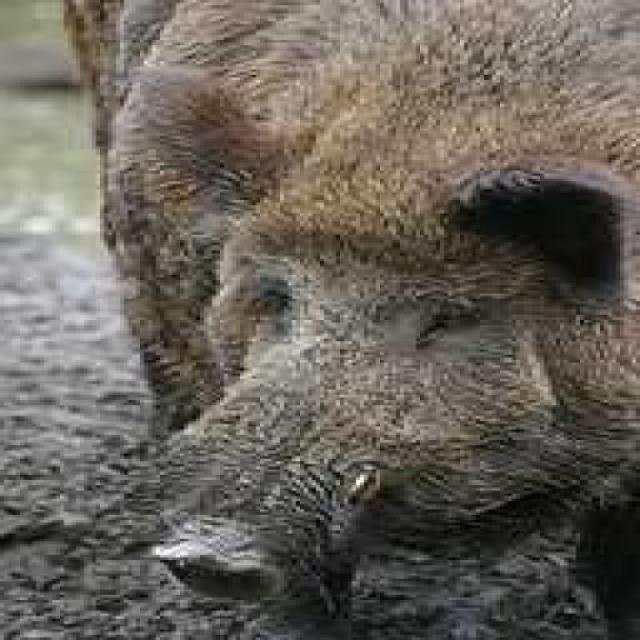pig: (79, 0, 640, 616)
